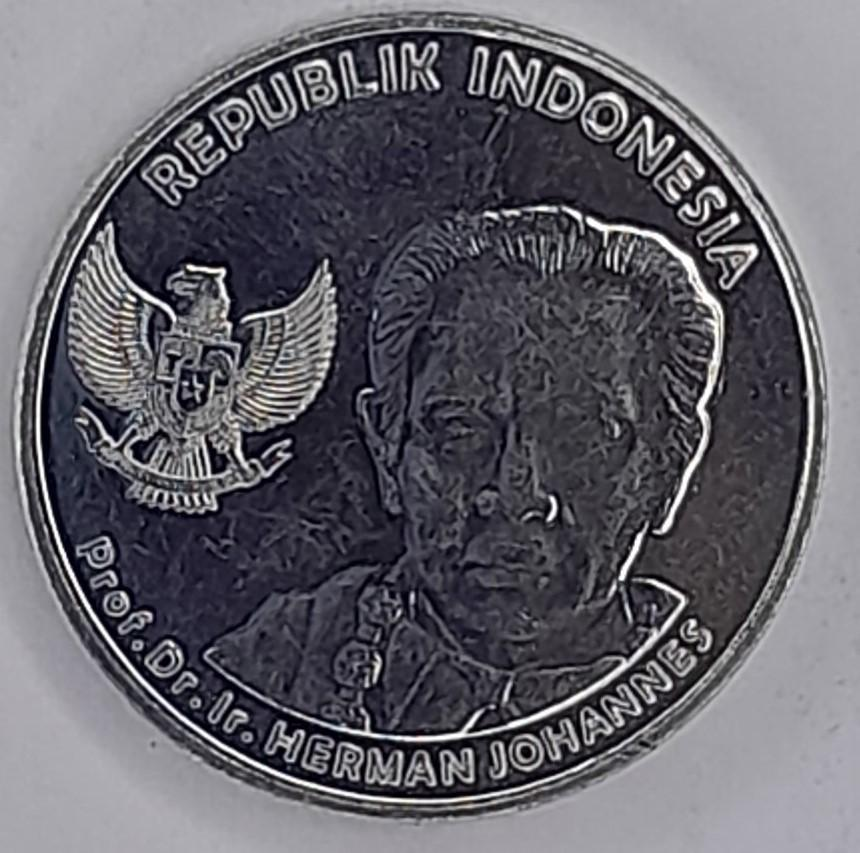coin_100_e2016: (8, 4, 834, 824)
